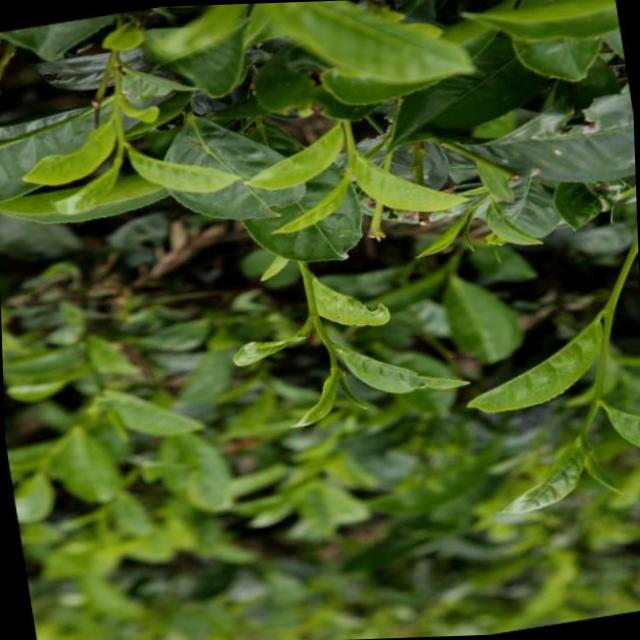Stem: (578, 422, 590, 434), (322, 337, 333, 348), (346, 139, 354, 150), (117, 134, 124, 143)
